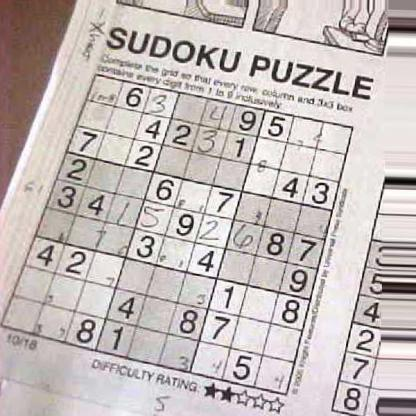sudoku: (0, 69, 357, 397)
